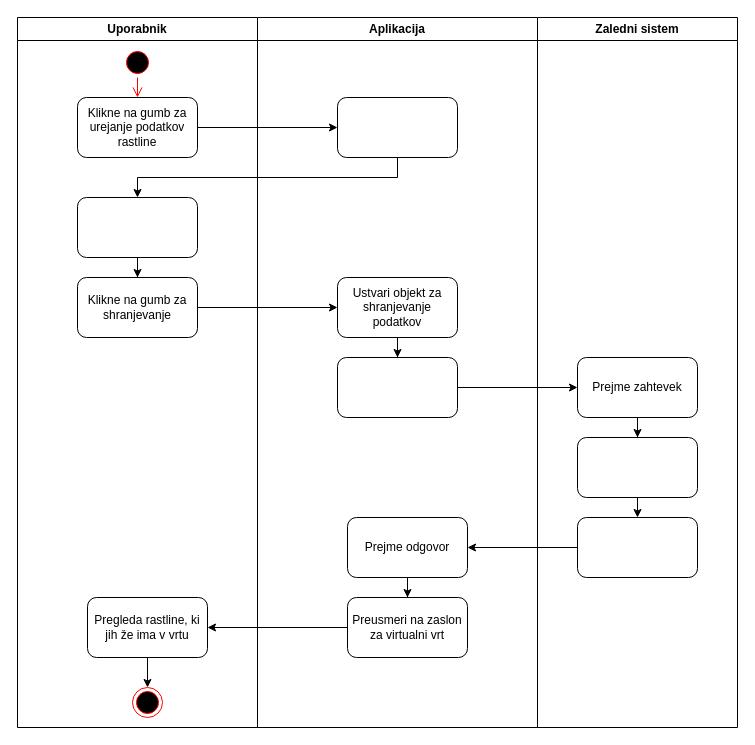
Image size: 755x745. Some labels were removed from this diagram. Each missing label, with the centre of its shape:
Pošlje zahtevo: pixel 397 387
Preusmeri na zaslon za urejanje podatkov rastline: pixel 397 127
Spremeni podatke o rastlini: pixel 637 467
Spremeni željene podatke: pixel 137 227
Vrne odgovor o statusu sprememb: pixel 637 547
